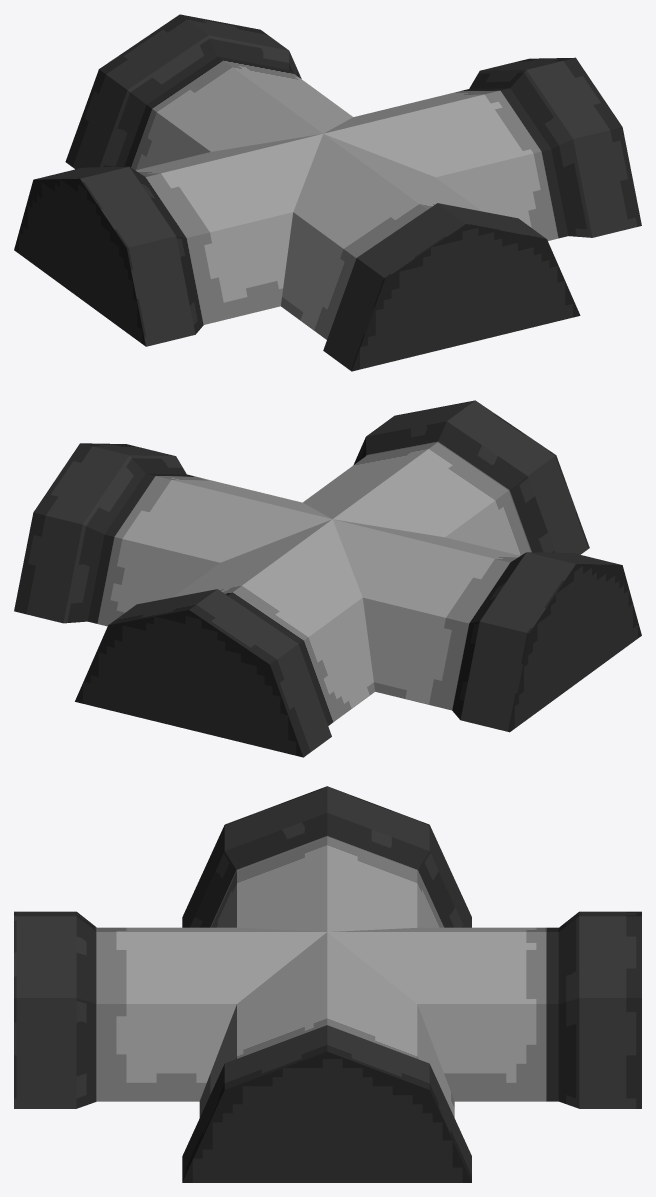
The model's file is buis X.FBX.
3 views of the same model, one above another, from view 1: azimuth 30°, elevation 25°; view 2: azimuth 150°, elevation 25°; view 3: azimuth 270°, elevation 25° (orthographic). The views are drawn at different scales.
Visible parts, largest first — view 1: Cylinder001; view 2: Cylinder001; view 3: Cylinder001.
Part boxes in pixels (box(x1,y1,x2,y2)): Cylinder001: box(14, 14, 641, 371); Cylinder001: box(14, 400, 641, 757); Cylinder001: box(14, 786, 641, 1182).
Bounding box in the file's own units: 1 × 0.2315 × 1.
Materials: 1 (1 with a texture image).
